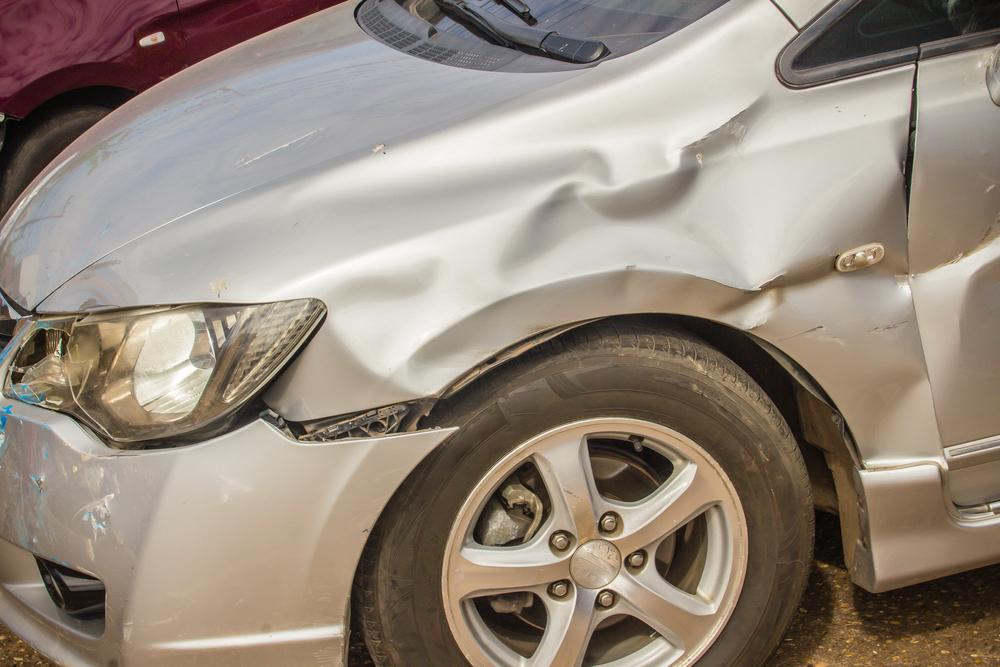dent: (336, 95, 928, 473), (908, 189, 1000, 362)
lamp broken: (5, 298, 320, 444)
scratch: (0, 408, 128, 571)
